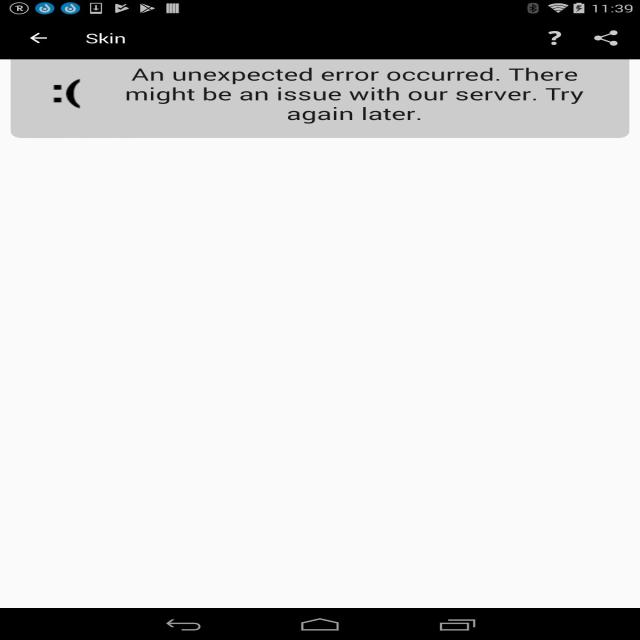button: (589, 26, 624, 52), (539, 24, 571, 52), (20, 26, 52, 51)
heading: (80, 31, 132, 49)
text: (119, 64, 590, 126)
